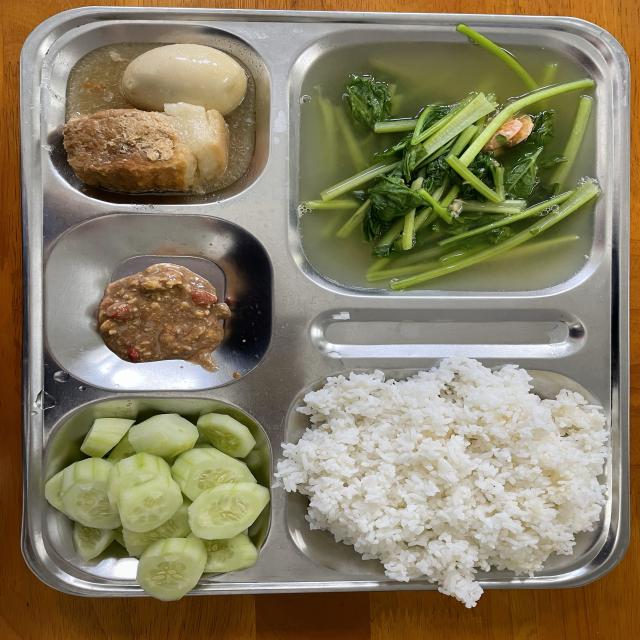canh_cai: (337, 72, 569, 280)
com_trang: (318, 386, 594, 554)
thit_kho_trung: (70, 49, 251, 192)
